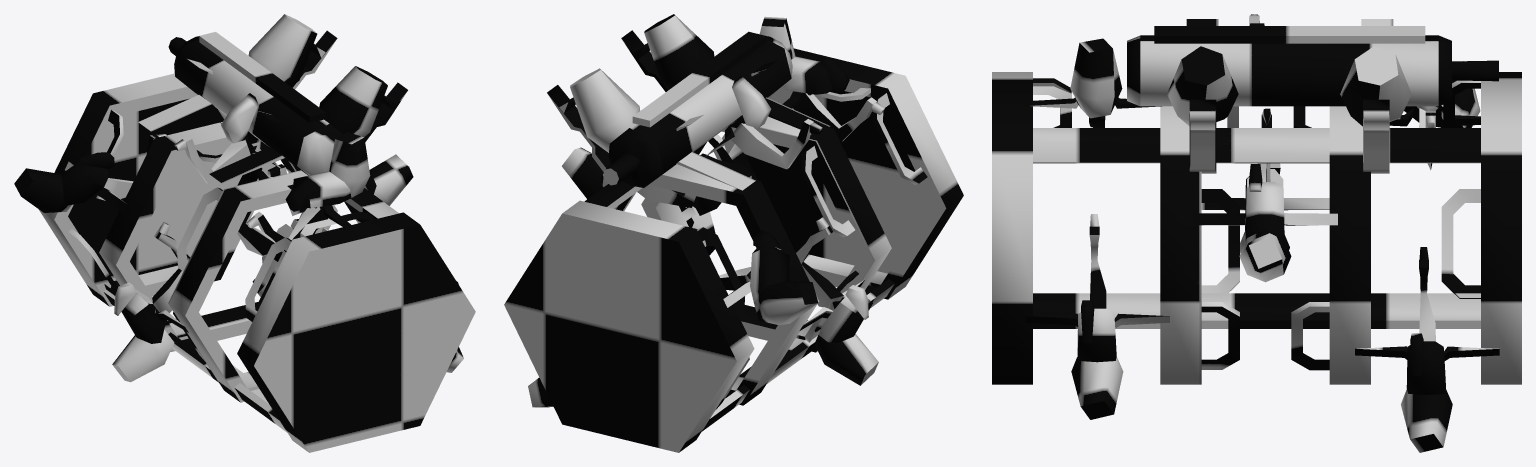
The model's file is building_repair_module.obj.
The picture shows the model from 3 angles, left to right: view 1: azimuth 30°, elevation 25°; view 2: azimuth 150°, elevation 25°; view 3: azimuth 270°, elevation 25°; orthographic projection. The views are drawn at different scales.
Visible parts, largest first — view 1: building_repair_module_EIC; view 2: building_repair_module_EIC; view 3: building_repair_module_EIC.
Boxes of the visible parts, x1,y1,x2,y2 form: building_repair_module_EIC: [14, 14, 475, 452]; building_repair_module_EIC: [504, 14, 963, 452]; building_repair_module_EIC: [992, 14, 1521, 452].
Bounding box in the file's own units: 177 × 169 × 210.
Materials: 1 (1 with a texture image).
